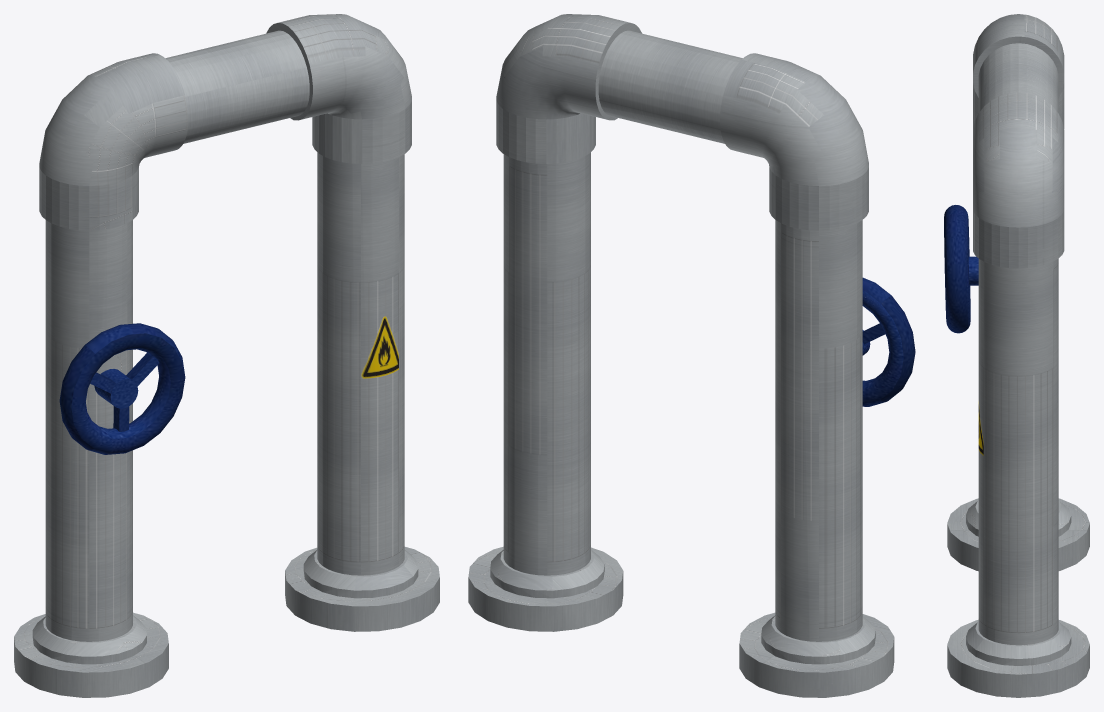
The model's file is flame_pipe.glb.
3 views of the same model, side by side, from view 1: azimuth 30°, elevation 25°; view 2: azimuth 150°, elevation 25°; view 3: azimuth 270°, elevation 25° (orthographic). The views are drawn at different scales.
Parts seen in each view (by area): view 1: pCylinder15; view 2: pCylinder15; view 3: pCylinder15.
Part boxes in pixels (box(x1,y1,x2,y2)): pCylinder15: box(14, 14, 439, 697); pCylinder15: box(468, 14, 915, 697); pCylinder15: box(944, 14, 1089, 697).
Bounding box in the file's own units: 10.67 × 14.85 × 3.62.
Materials: 1 (1 with a texture image).
